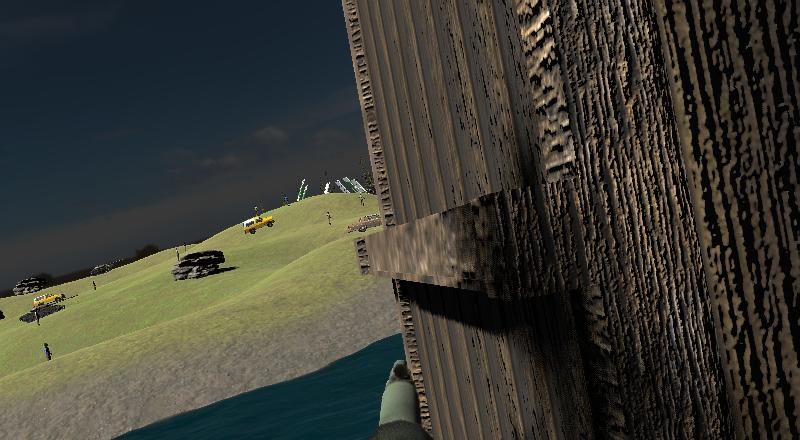car: (344, 212, 383, 235), (242, 214, 275, 236), (32, 292, 63, 309)
